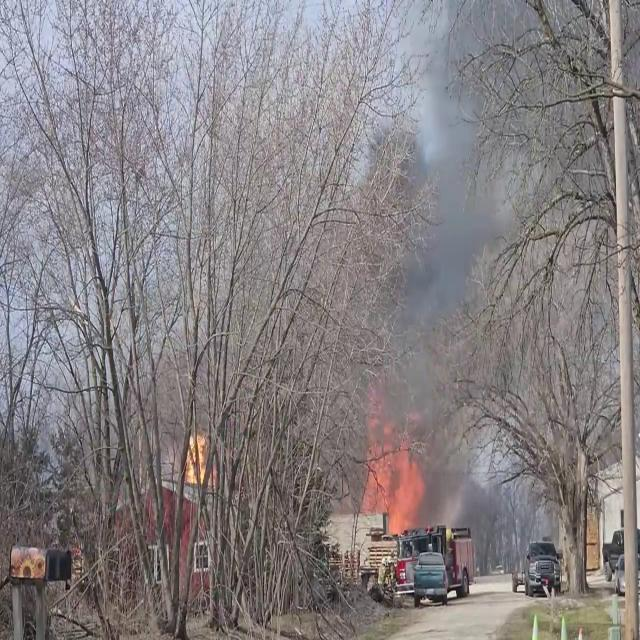Fire: (328, 414, 428, 576), (184, 417, 210, 491)
Smoke: (361, 10, 514, 504)
